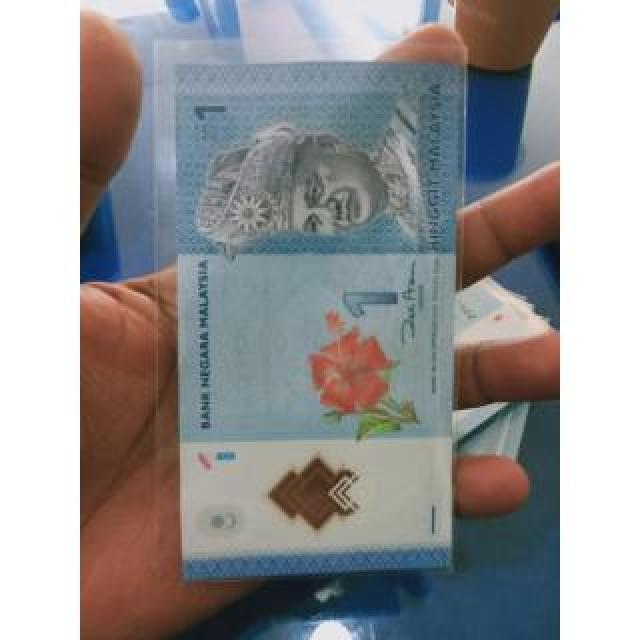1 Ringgit: (162, 52, 475, 590)
